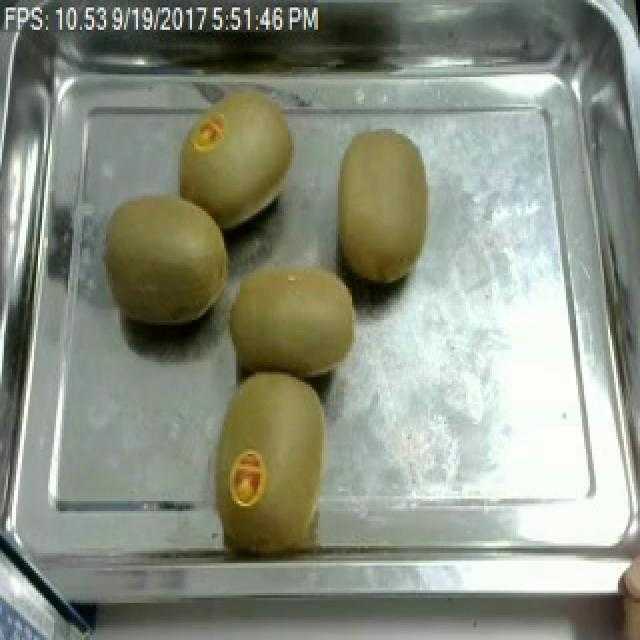Fruit: (210, 362, 342, 536), (92, 183, 236, 335), (168, 80, 302, 238), (324, 119, 440, 293), (222, 253, 366, 389)
